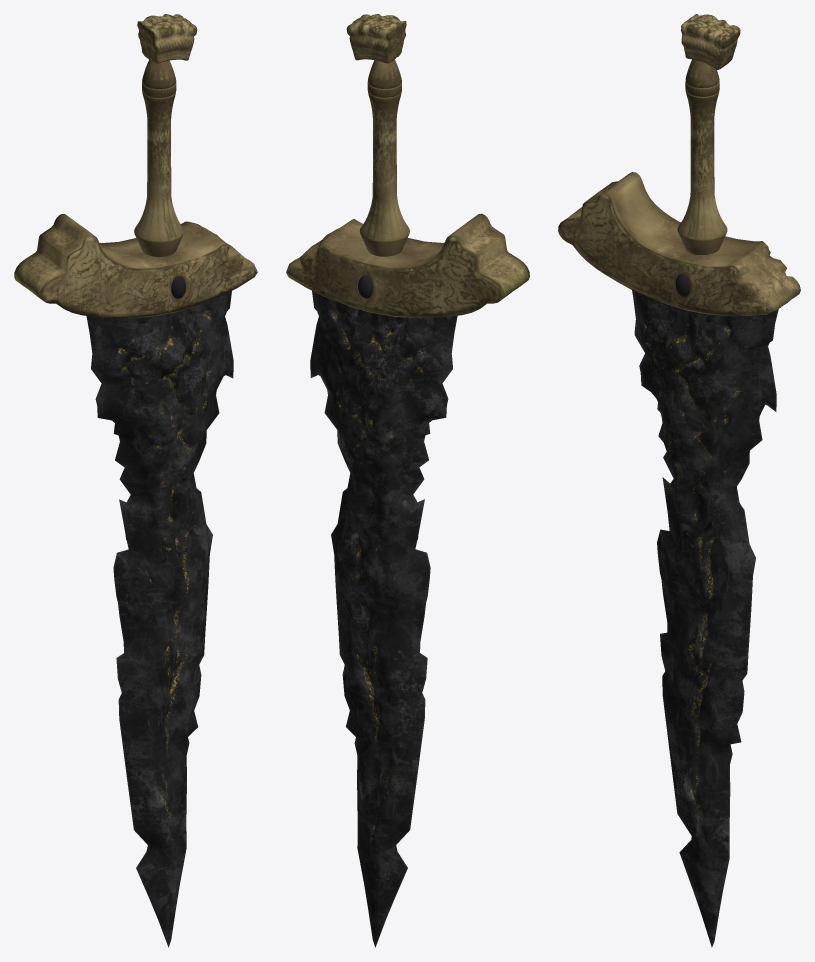
The model's file is Black_blade.obj.
3 views of the same model, side by side, from view 1: azimuth 30°, elevation 25°; view 2: azimuth 150°, elevation 25°; view 3: azimuth 330°, elevation 25° (orthographic).
Parts seen in each view (by area): view 1: black_blade; view 2: black_blade; view 3: black_blade.
Boxes of the visible parts, x1,y1,x2,y2 form: black_blade: (14,14,257,947); black_blade: (286,14,529,947); black_blade: (558,14,800,947).
Size of the model in its own units: 16.44 by 66.82 by 5.9.
